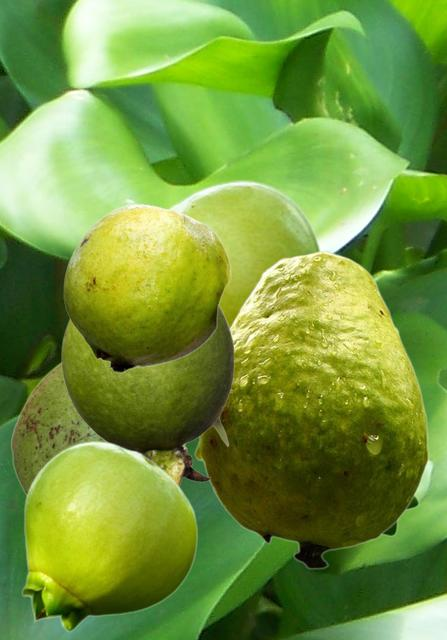guava: (194, 250, 428, 569), (21, 441, 197, 631), (61, 305, 233, 485), (63, 203, 230, 372), (10, 362, 186, 495), (166, 179, 323, 324), (381, 495, 419, 537)
